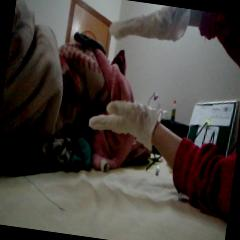gloved: (85, 96, 162, 156), (106, 0, 189, 52)
